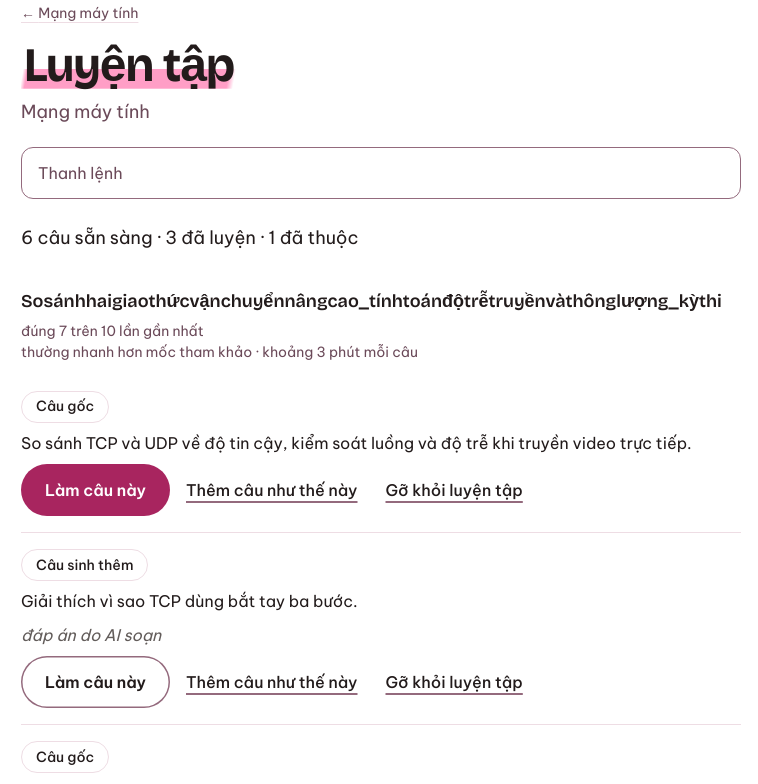
Test: remove and undo › AC3: one tap removes in place, focus on Hoàn tác, undo returns focus to Làm câu này
What coordinates should you click on to do the following:
click the button "Gỡ khỏi luyện tập" below "Câu sinh thêm"
I would click on:
 (454, 682)
Its box is [374,660,535,704].
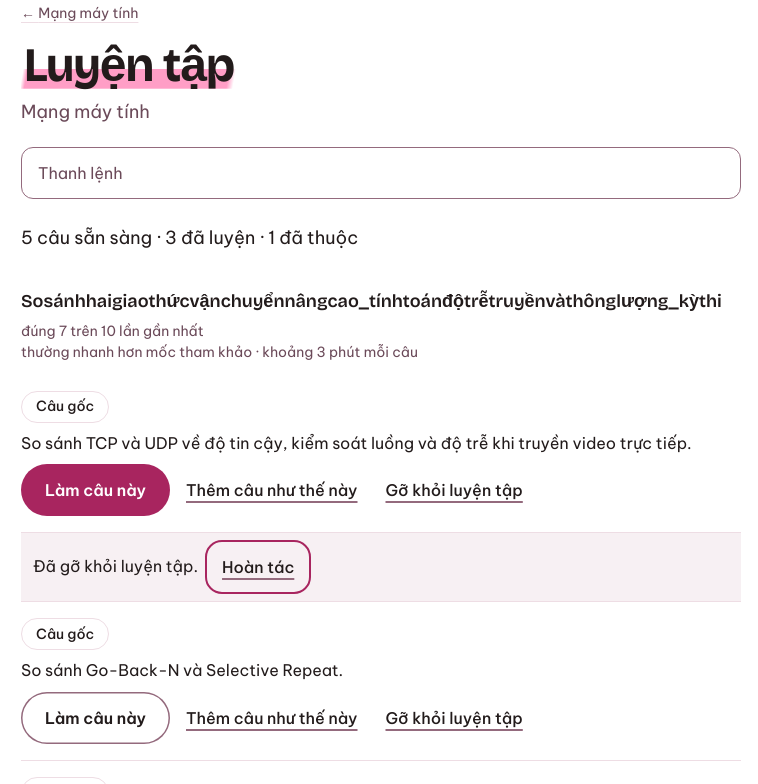
What coordinates should you click on to do the following:
click the button "Hoàn tác"
I would click on:
 (258, 567)
Its box is [210,545,306,589].
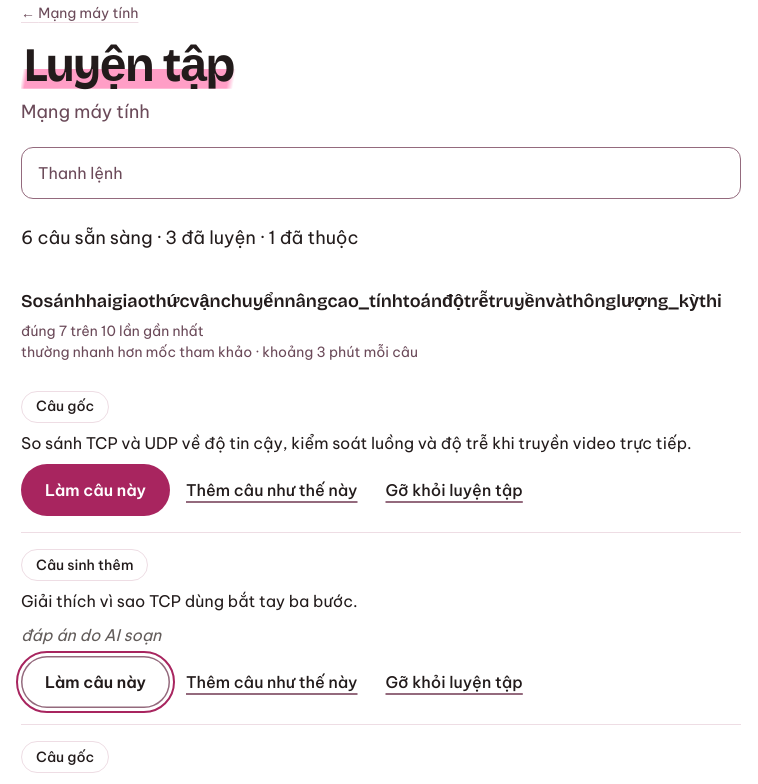
Expected: the button "Làm câu này" below "Câu sinh thêm" is shown, [21,656,170,708]
